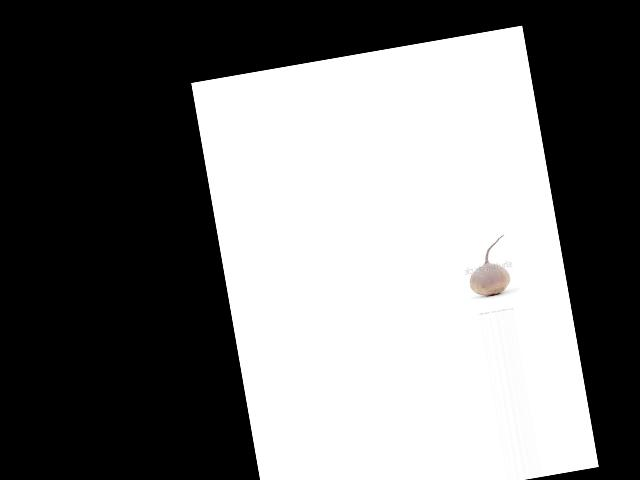beet: (461, 234, 513, 299)
